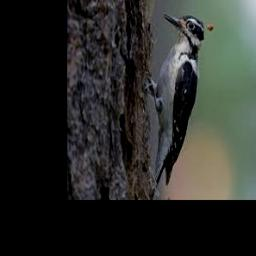Woodpecker: (145, 13, 214, 194)
